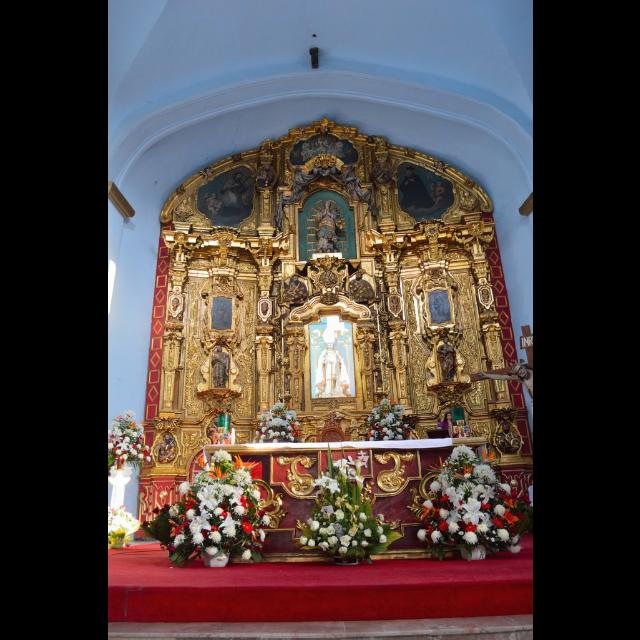Flower: (166, 445, 268, 567), (418, 444, 518, 546), (302, 463, 392, 557), (107, 410, 151, 470), (364, 394, 414, 442), (253, 400, 300, 444), (108, 505, 140, 537), (461, 534, 479, 546)
